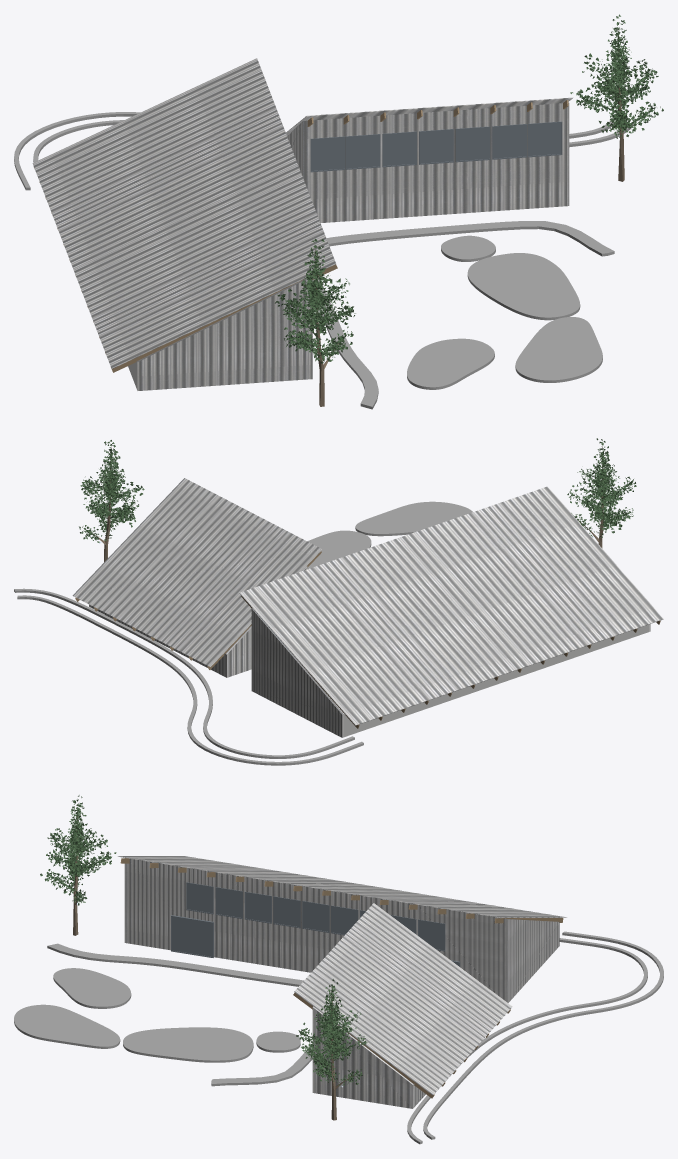
The model's file is model1_complex.glb.
3 views of the same model, one above another, from view 1: azimuth 30°, elevation 25°; view 2: azimuth 150°, elevation 25°; view 3: azimuth 270°, elevation 25° (orthographic). The views are drawn at different scales.
Parts seen in each view (by area): view 1: Model.001; view 2: Model.001; view 3: Model.001.
Boxes of the visible parts, left/top/right/bottom form: Model.001: left=14, top=14, right=663, bottom=409; Model.001: left=14, top=438, right=663, bottom=765; Model.001: left=14, top=795, right=663, bottom=1144.
Bounding box in the file's own units: 4.7 × 1.13 × 4.8.
Materials: 7 (1 with a texture image).
